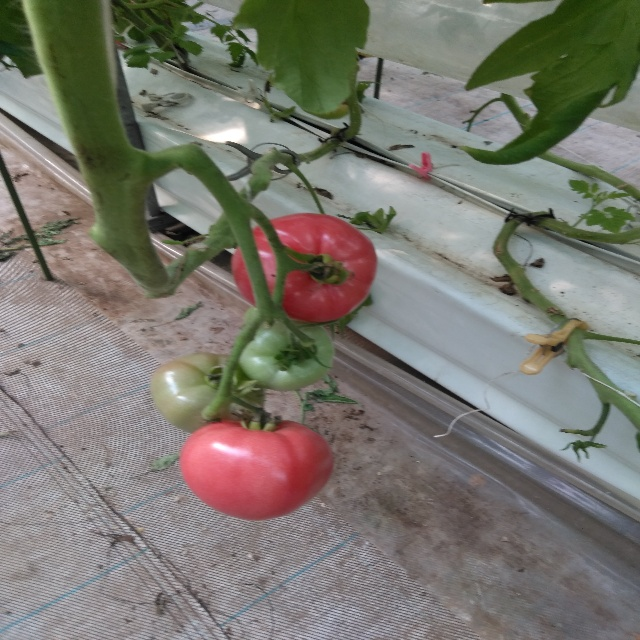b_fully_ripened: (231, 213, 378, 323), (178, 419, 334, 521)
b_green: (150, 352, 265, 434), (239, 315, 334, 392)
